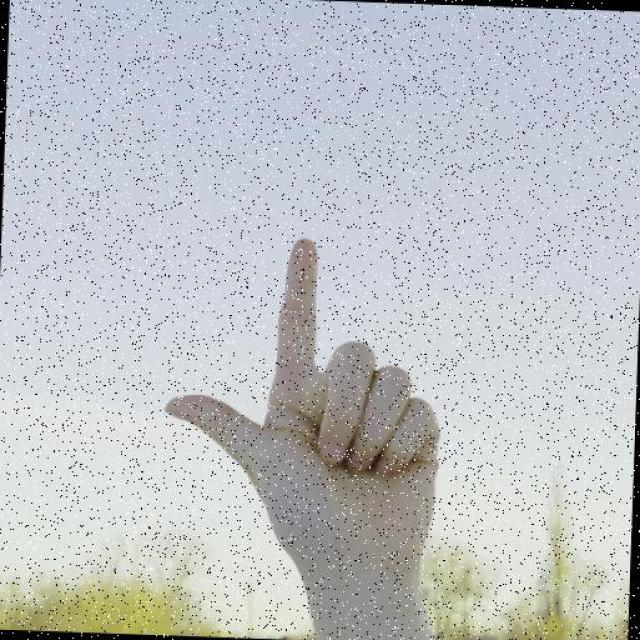L: (131, 207, 478, 640)
